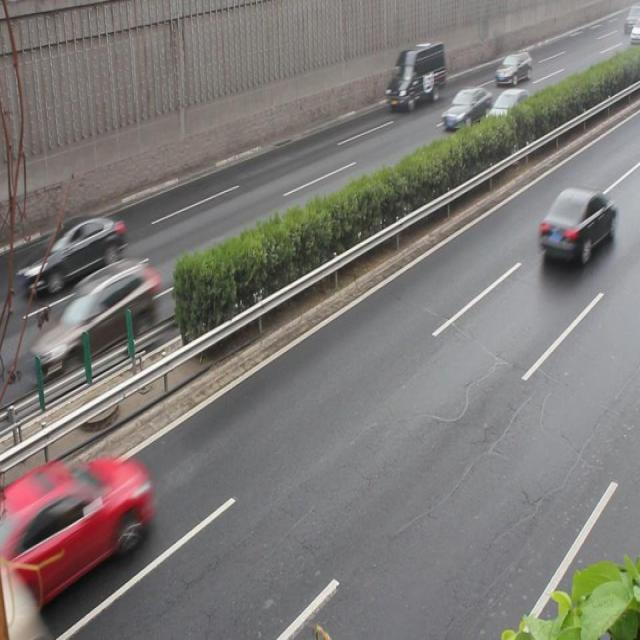car: (0, 451, 146, 582), (25, 257, 157, 364), (23, 215, 126, 292), (535, 183, 614, 260), (484, 88, 534, 134), (441, 86, 488, 131)
